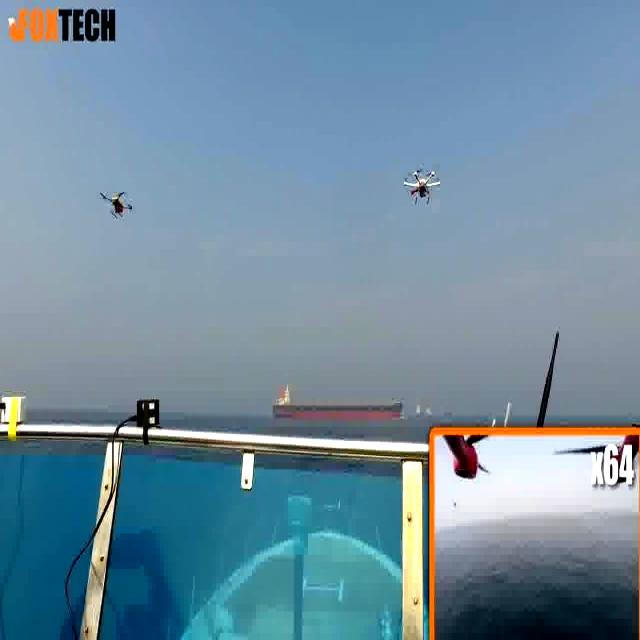drone: (404, 160, 440, 207), (96, 186, 135, 223)
